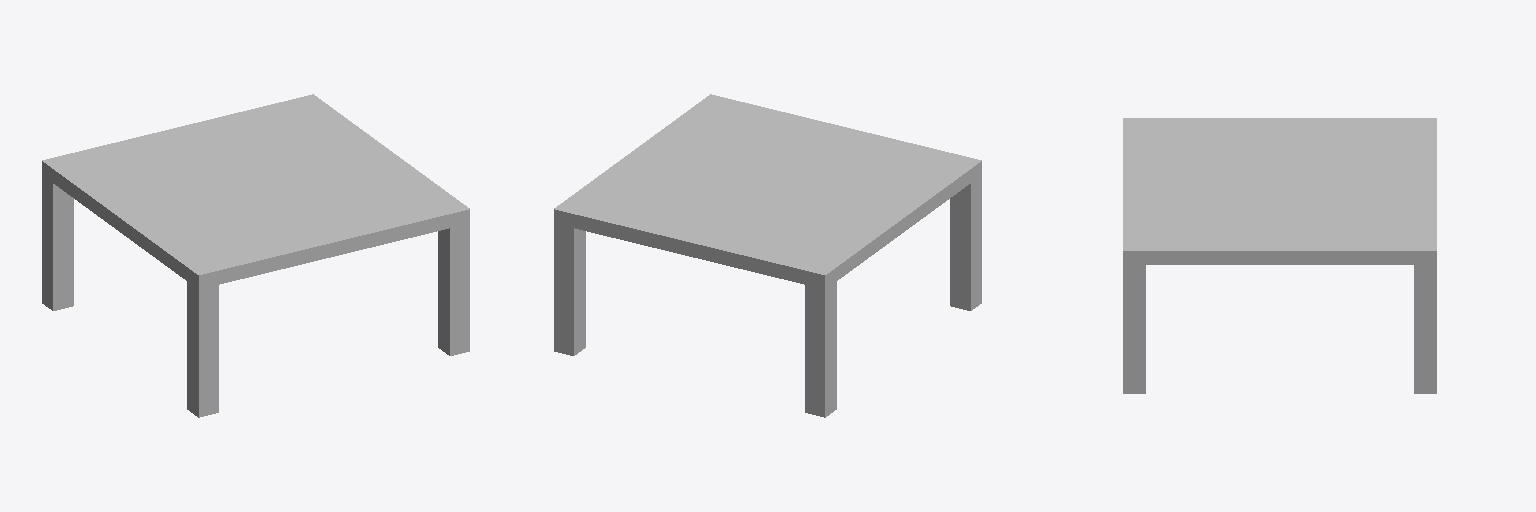
File: bench_t05.obj
3 views of the same model, side by side, from view 1: azimuth 30°, elevation 25°; view 2: azimuth 150°, elevation 25°; view 3: azimuth 270°, elevation 25° (orthographic).
Parts seen in each view (by area): view 1: Cube; view 2: Cube; view 3: Cube.
Boxes of the visible parts, box(x1,y1,x2,y2) form: Cube: box(42, 94, 469, 417); Cube: box(554, 94, 981, 417); Cube: box(1123, 118, 1436, 393).
Size of the model in its own units: 4 by 2 by 4.